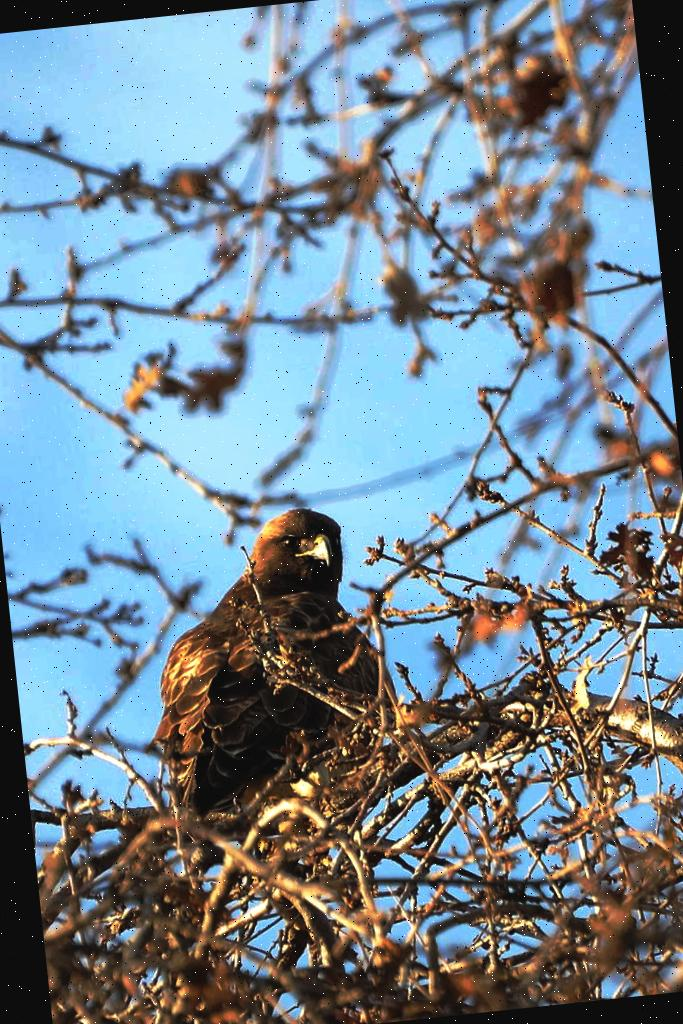Owl: (127, 499, 406, 826)
